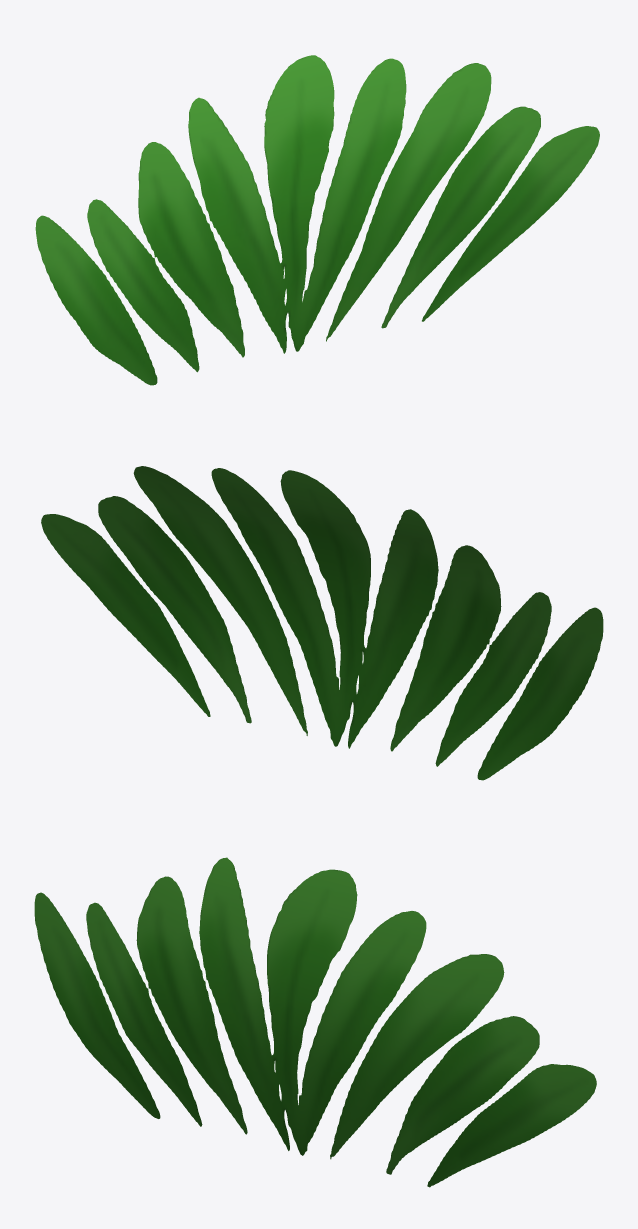
Rendered from sm_env_minigrass.fbx.
3 views of the same model, one above another, from view 1: azimuth 30°, elevation 25°; view 2: azimuth 150°, elevation 25°; view 3: azimuth 330°, elevation 25° (orthographic).
Parts seen in each view (by area): view 1: minigrass; view 2: minigrass; view 3: minigrass.
Part boxes in pixels (<box>): minigrass: <box>35,55,599,385</box>; minigrass: <box>41,466,603,780</box>; minigrass: <box>34,857,596,1187</box>.
Size of the model in its own units: 17.01 by 8.29 by 1.17.
